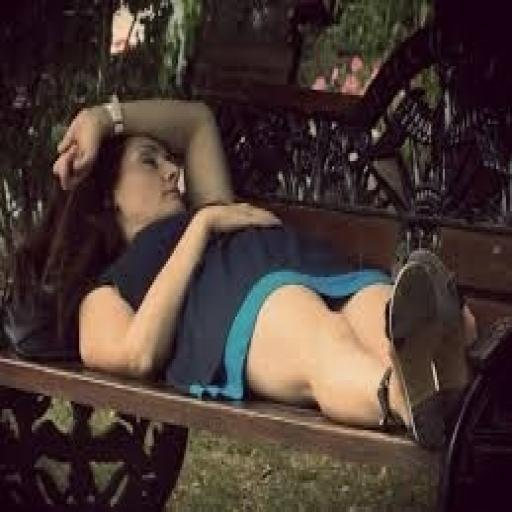sleeping: (50, 95, 480, 451)
